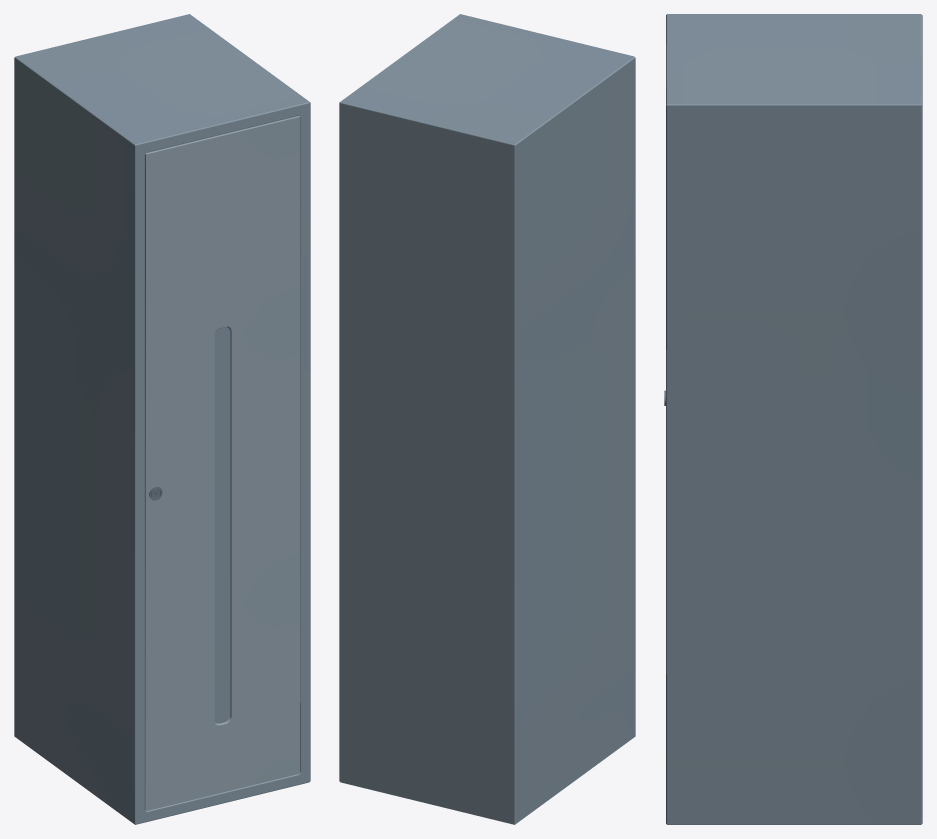
The model's file is SM_Locker_DoorSingle_Open.fbx.
3 views of the same model, side by side, from view 1: azimuth 30°, elevation 25°; view 2: azimuth 150°, elevation 25°; view 3: azimuth 270°, elevation 25° (orthographic). The views are drawn at different scales.
Visible parts, largest first — view 1: SM_Locker_DoorSingle_Open, SM_Locker_Door_Single; view 2: SM_Locker_DoorSingle_Open; view 3: SM_Locker_DoorSingle_Open.
Part boxes in pixels (x1,y1,x2,y2): SM_Locker_DoorSingle_Open: (14, 14, 310, 824); SM_Locker_Door_Single: (145, 116, 300, 811); SM_Locker_DoorSingle_Open: (339, 14, 635, 824); SM_Locker_DoorSingle_Open: (666, 14, 922, 824).
Bounding box in the file's own units: 58.47 × 215 × 69.85.
